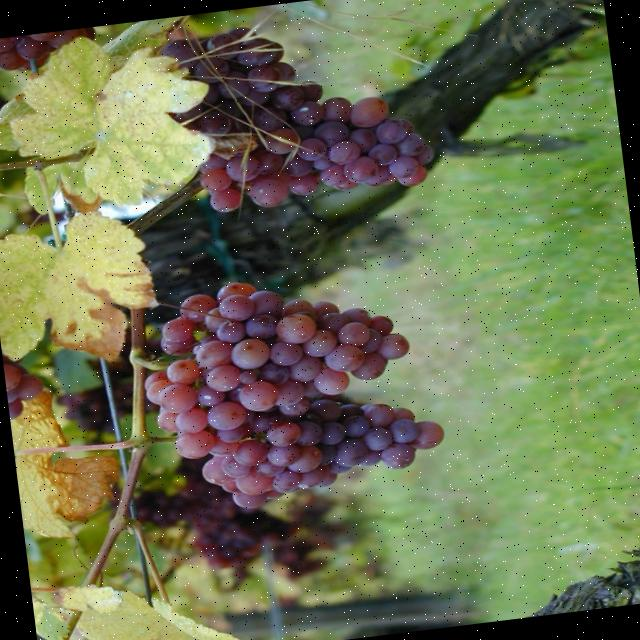grape: (143, 282, 443, 508), (160, 27, 433, 211), (135, 458, 349, 582), (0, 26, 93, 70), (2, 357, 42, 418)
